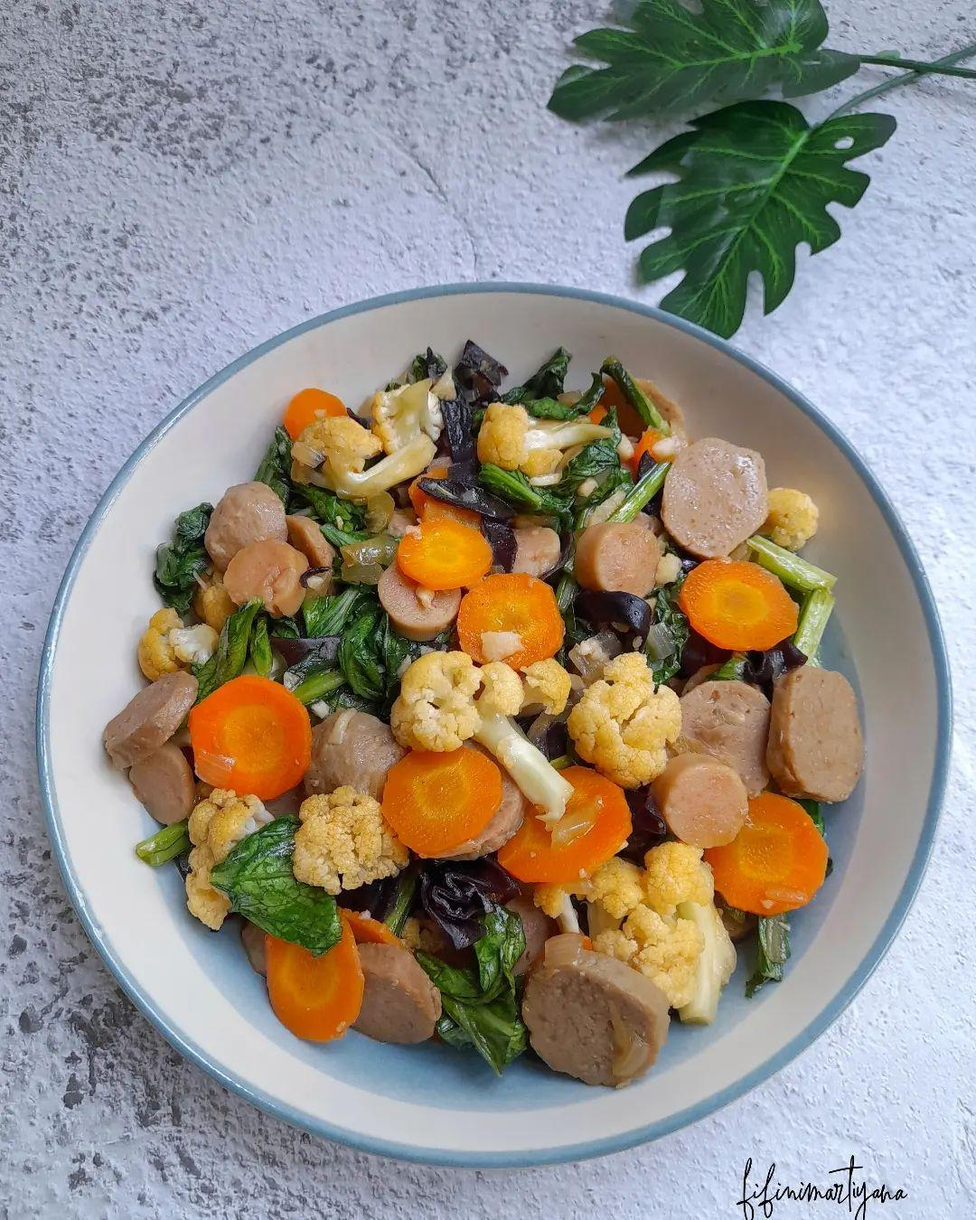buah_sayur_lainnya: (302, 620, 380, 694), (237, 852, 294, 908)
buah_sayur_vitA: (202, 701, 299, 788), (401, 759, 482, 838), (468, 591, 549, 661), (694, 568, 772, 631), (761, 819, 811, 901), (414, 530, 482, 580)
daging: (794, 673, 847, 777)
